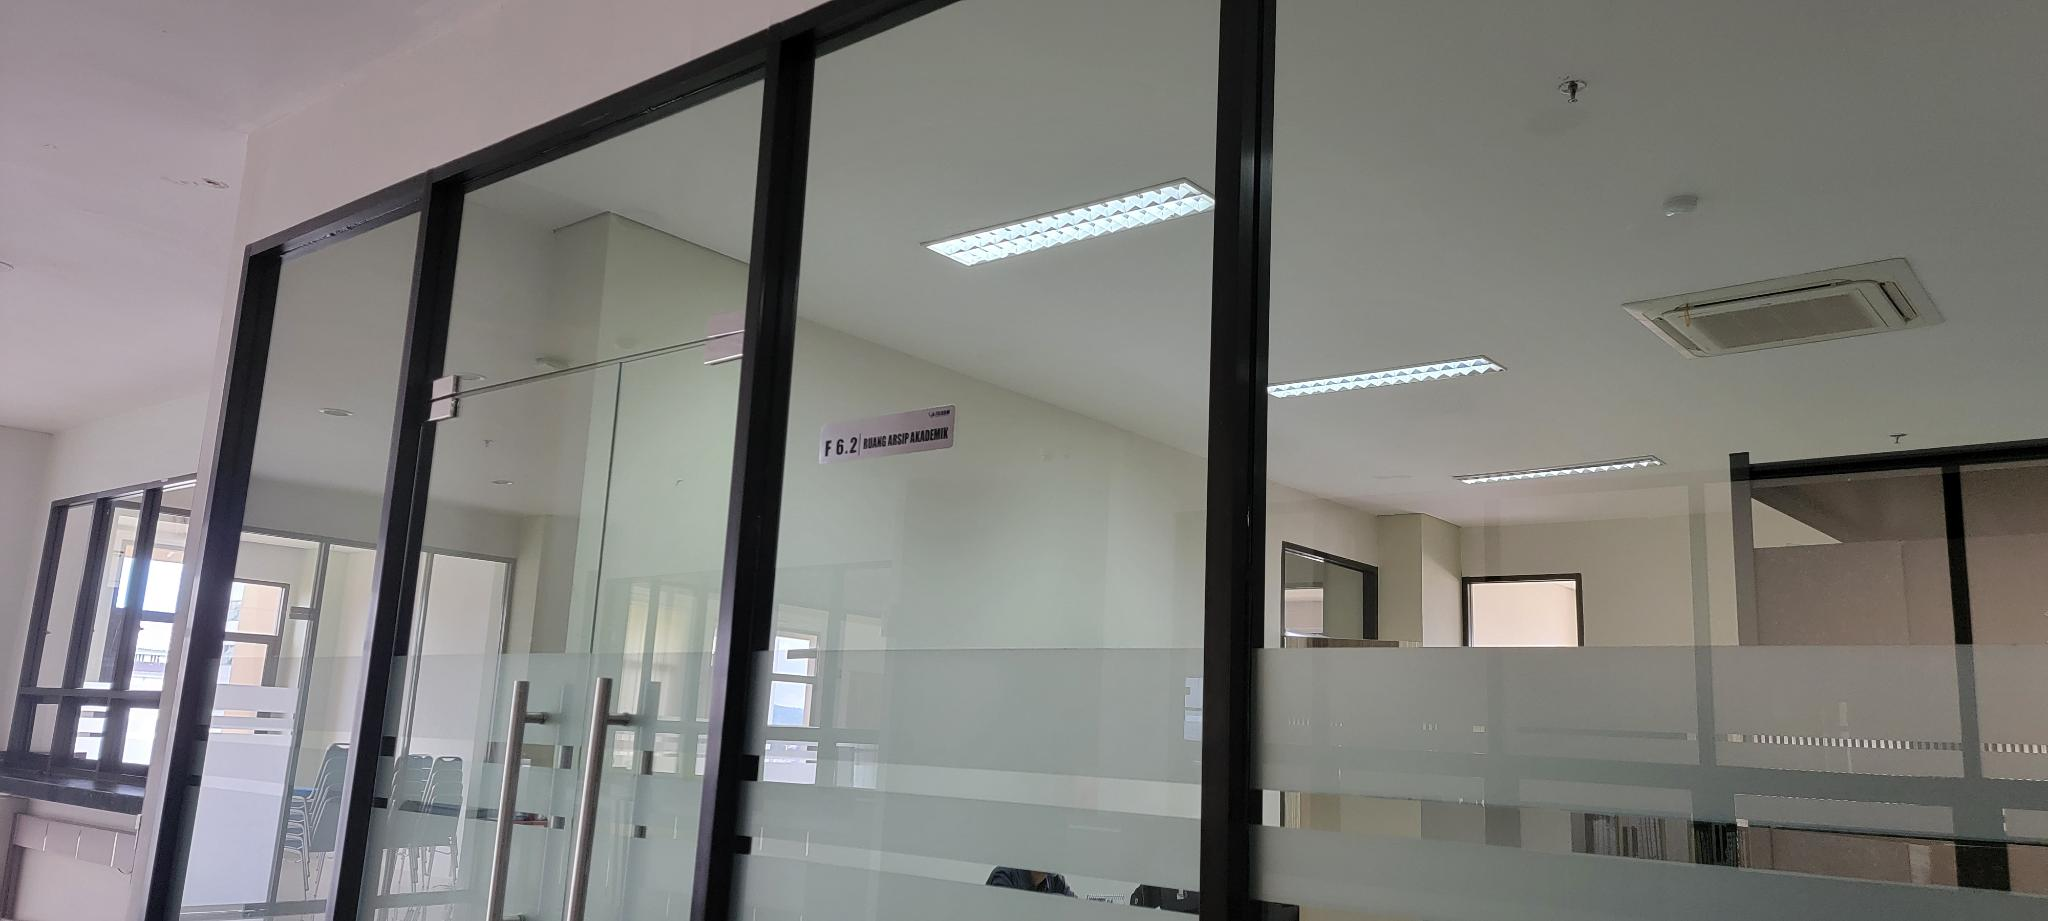plate: (819, 405, 956, 465)
